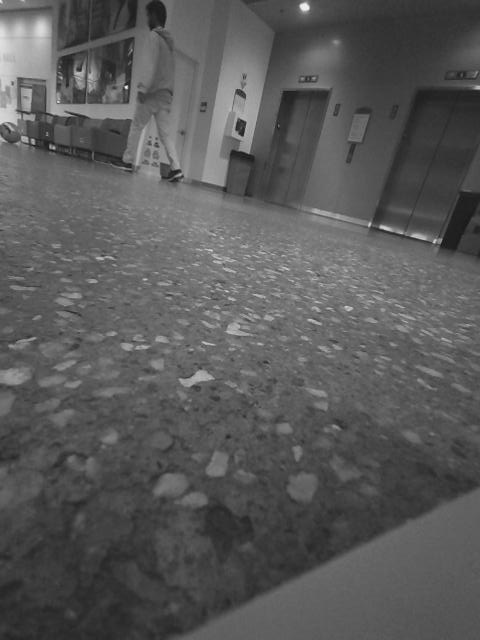ball: (1, 119, 25, 147)
